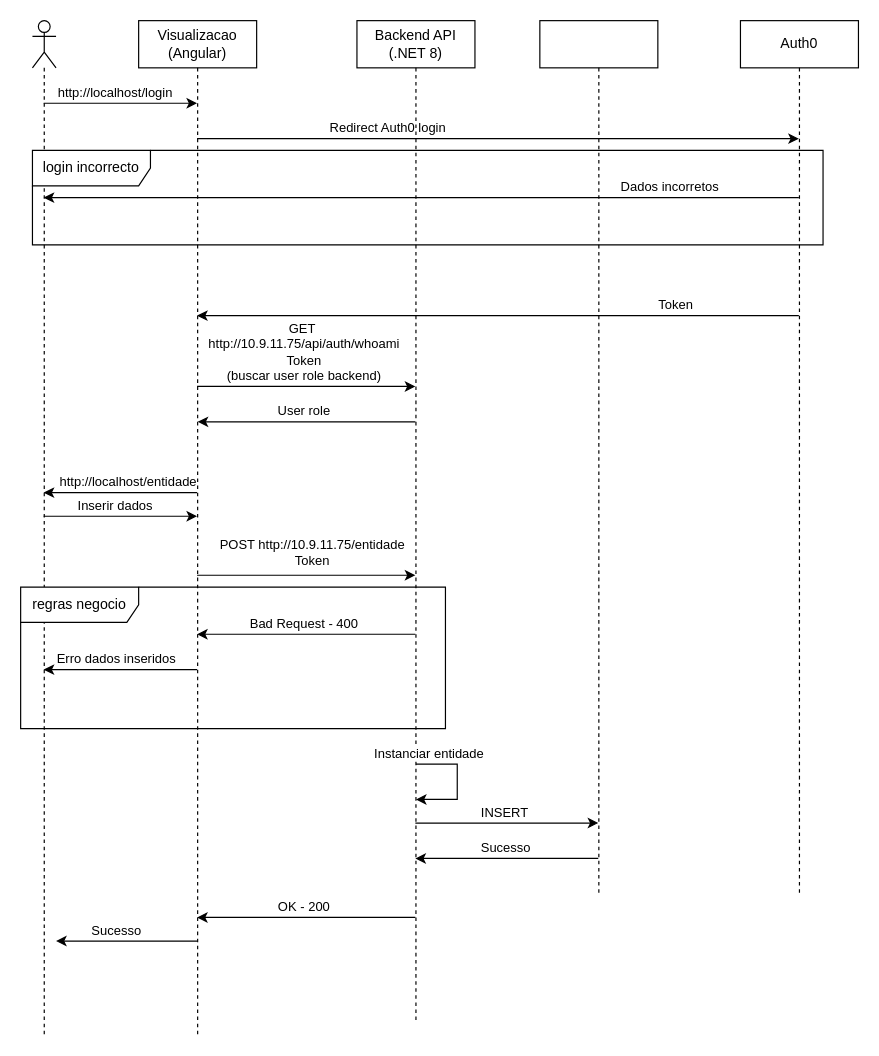
This 879x1056 diagram has some shape labels left out. The shapes that lost their labels are listed below. From the top down, each one's box as (x1, y1, x2, y2) in pixels, then its label:
(539, 19, 658, 894): Database (SQLite)
(31, 19, 56, 1035): User
